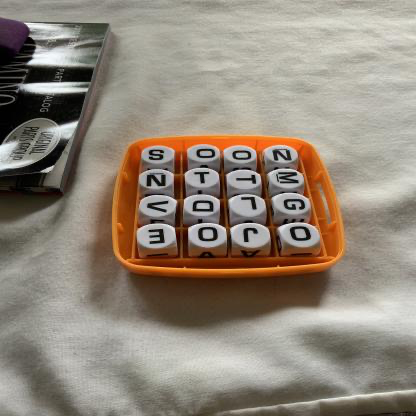d: (185, 196, 220, 217)
e: (138, 225, 176, 250)
g: (276, 194, 311, 216)
j: (233, 224, 271, 249)
l: (231, 195, 267, 218)
m: (271, 170, 305, 190)
n: (140, 171, 174, 190), (267, 146, 299, 164)
o: (189, 224, 228, 248), (283, 224, 320, 248), (225, 147, 258, 164), (189, 146, 221, 163)
s: (142, 146, 176, 165)
t: (186, 169, 220, 189), (229, 171, 263, 190)
v: (140, 196, 177, 218)
